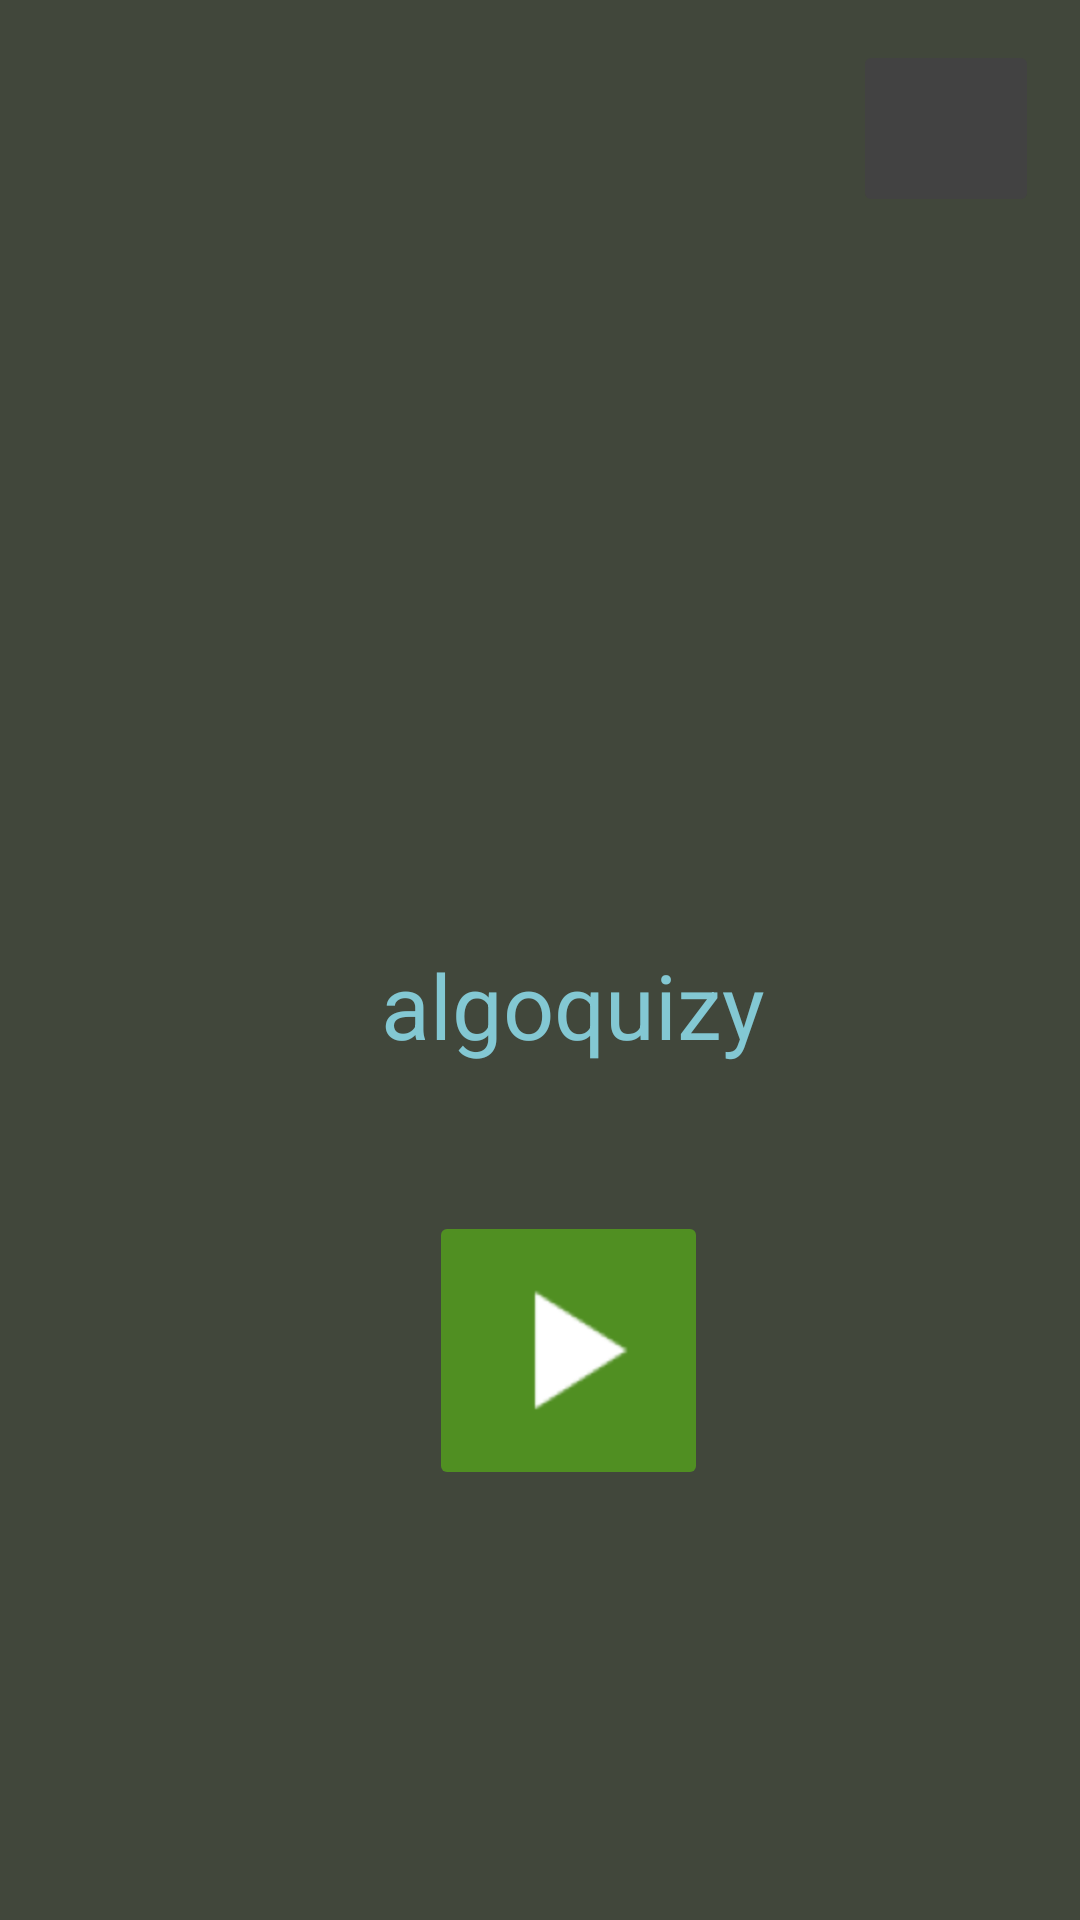

Where to tap for icons on this 1080px×1920px app screen, as [x,y]:
play arrow: [568,1350]
